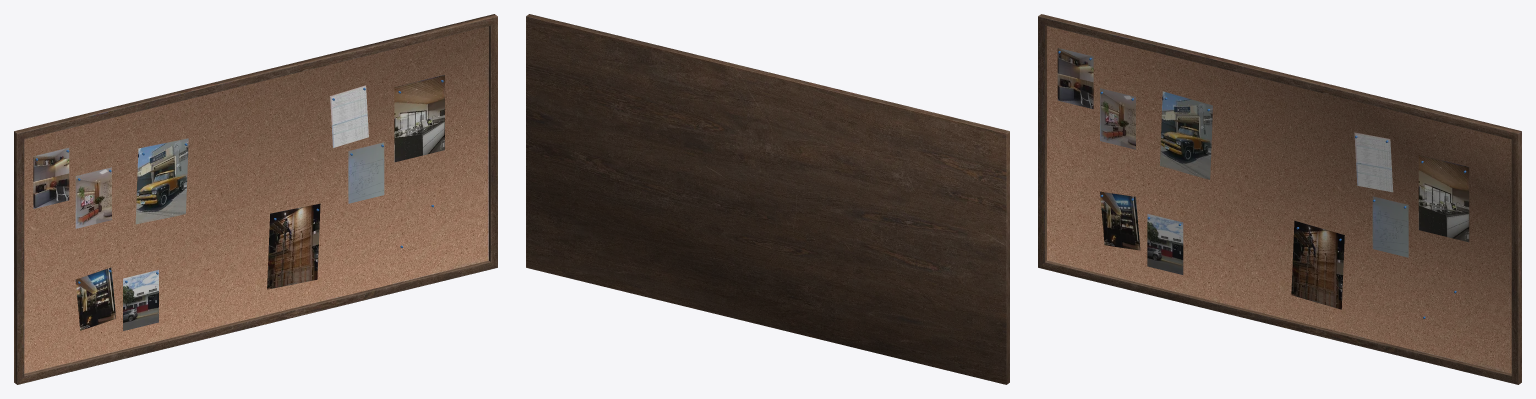
Rendered from cork_board.glb.
3 renders of one model, left to right at view 1: azimuth 30°, elevation 25°; view 2: azimuth 150°, elevation 25°; view 3: azimuth 330°, elevation 25°, orthographic.
Visible parts, largest first — view 1: CorkBoard_Material_0; view 2: CorkBoard_Material_0; view 3: CorkBoard_Material_0.
Boxes of the visible parts, bbox=[...] form: CorkBoard_Material_0: bbox=[14, 14, 497, 384]; CorkBoard_Material_0: bbox=[526, 14, 1009, 384]; CorkBoard_Material_0: bbox=[1038, 14, 1521, 384].
Bounding box in the file's own units: 2 × 0.9998 × 0.0249.
1 material, 1 textured.
